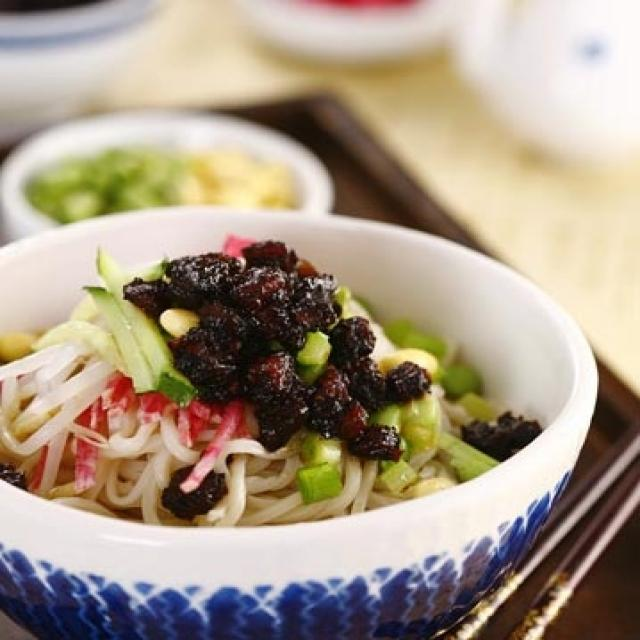面条主食: (2, 194, 611, 613)
